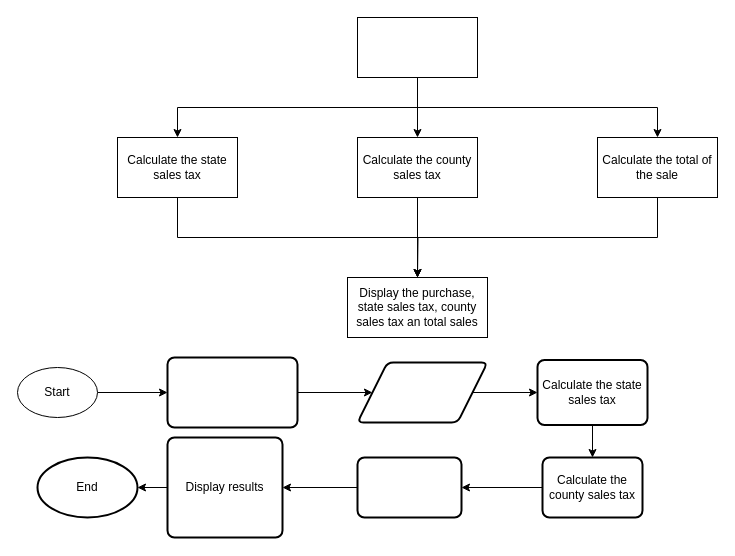
This 735x556 diagram has some shape labels left out. The shapes that lost their labels are listed below. From the top down, each one's centre as x and y in pixels, then its label:
point 417,47: Ask the user to enter the amount of a purchase
point 232,392: Declare some name constants for tax percentages
point 422,392: Get the purchase amount
point 409,487: calculate the total purchase
